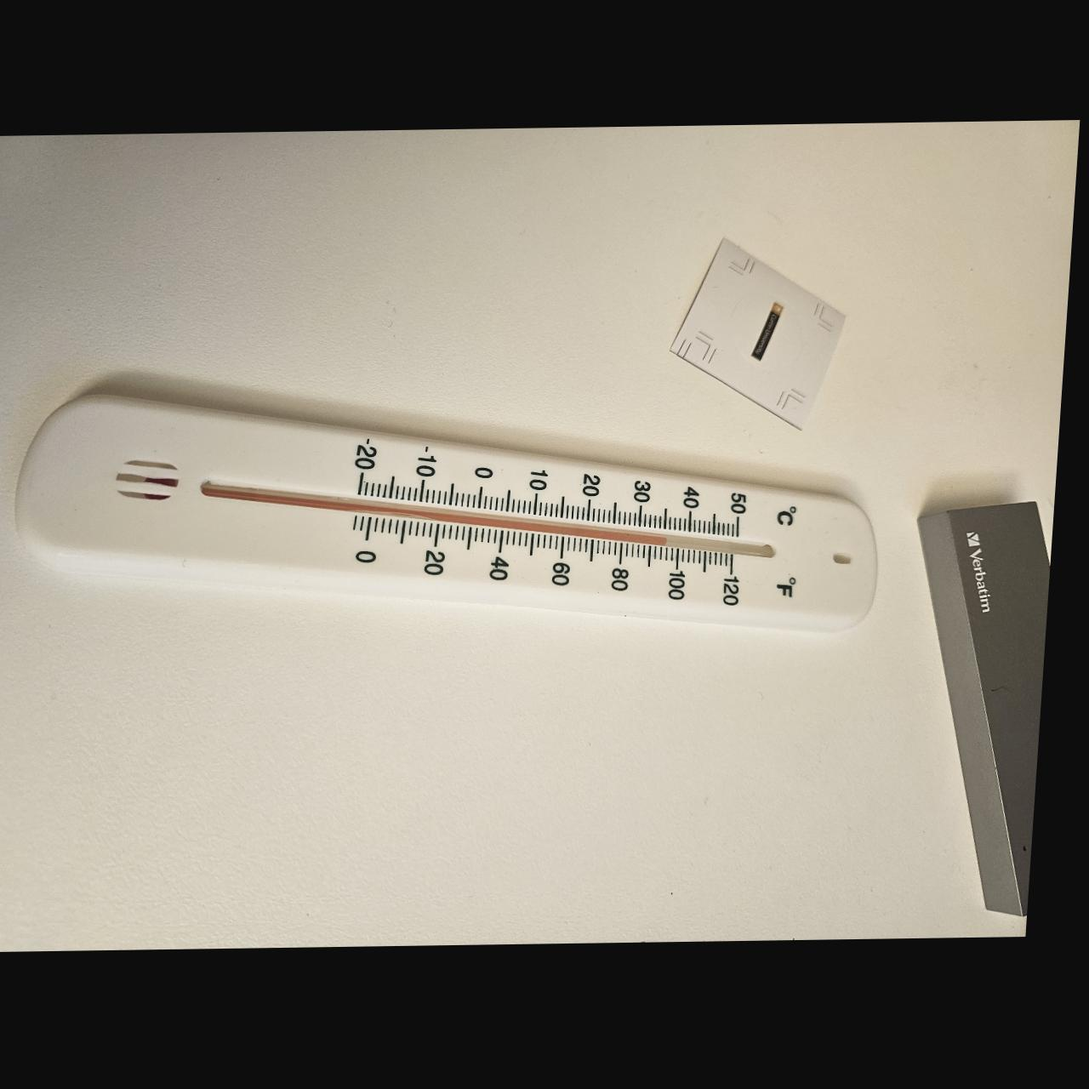thermometer: (2, 383, 890, 646)
